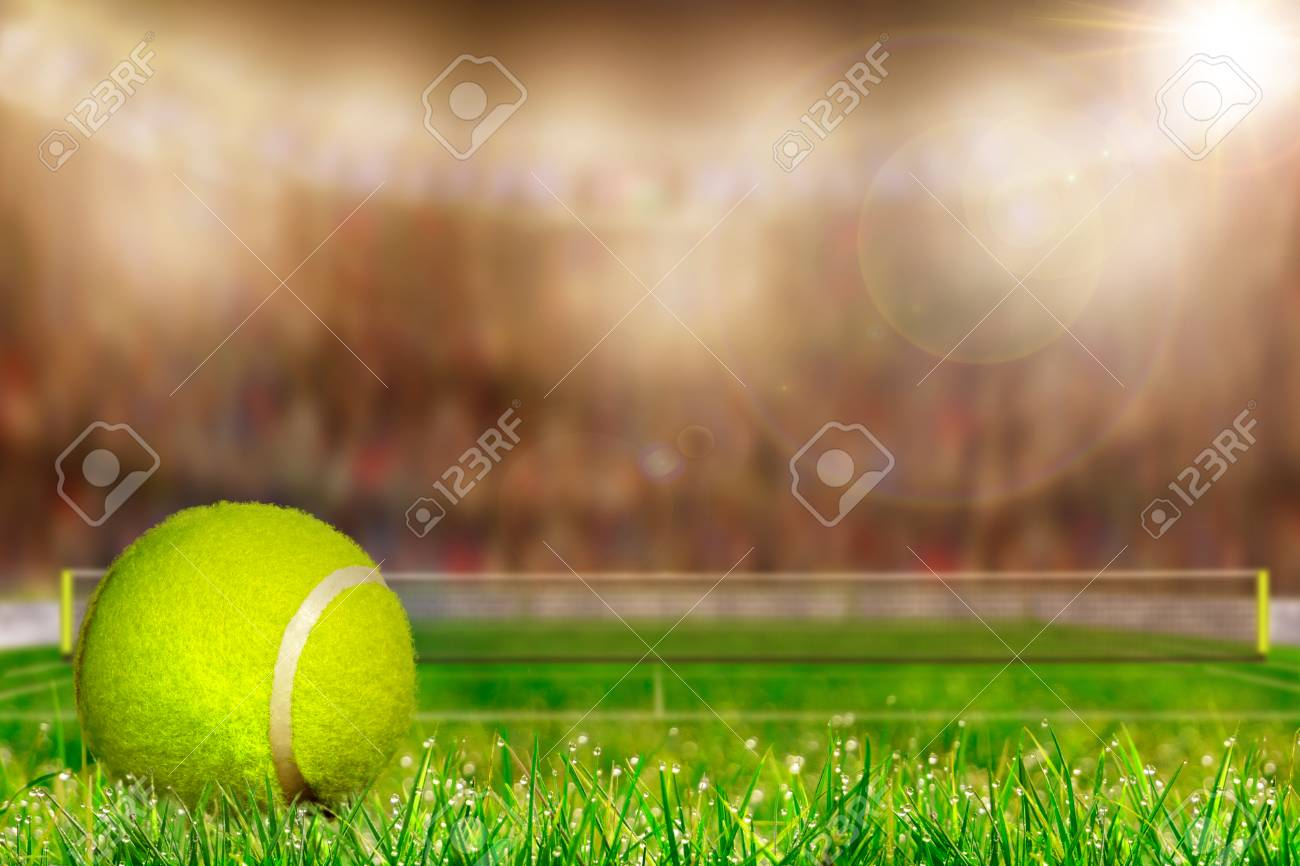tennis_ball: (71, 497, 418, 830)
